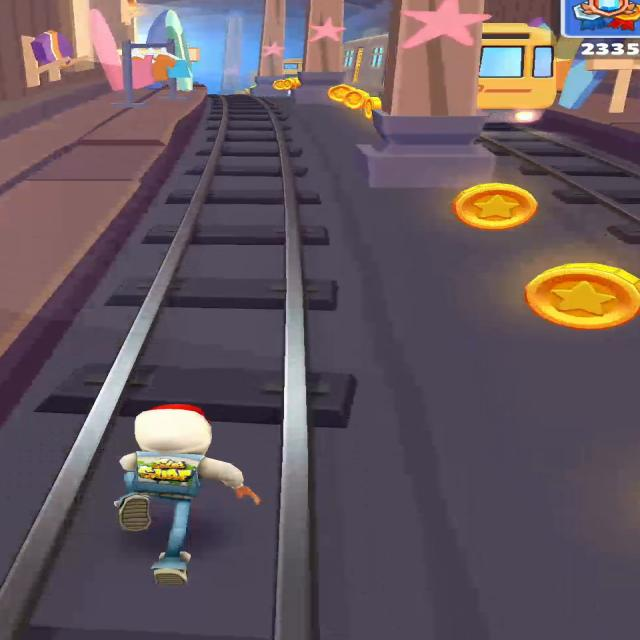block pillar: (358, 0, 495, 188), (299, 0, 344, 103), (252, 0, 285, 97), (221, 15, 243, 93)
train: (441, 13, 588, 125), (343, 33, 387, 95), (283, 59, 301, 75)
